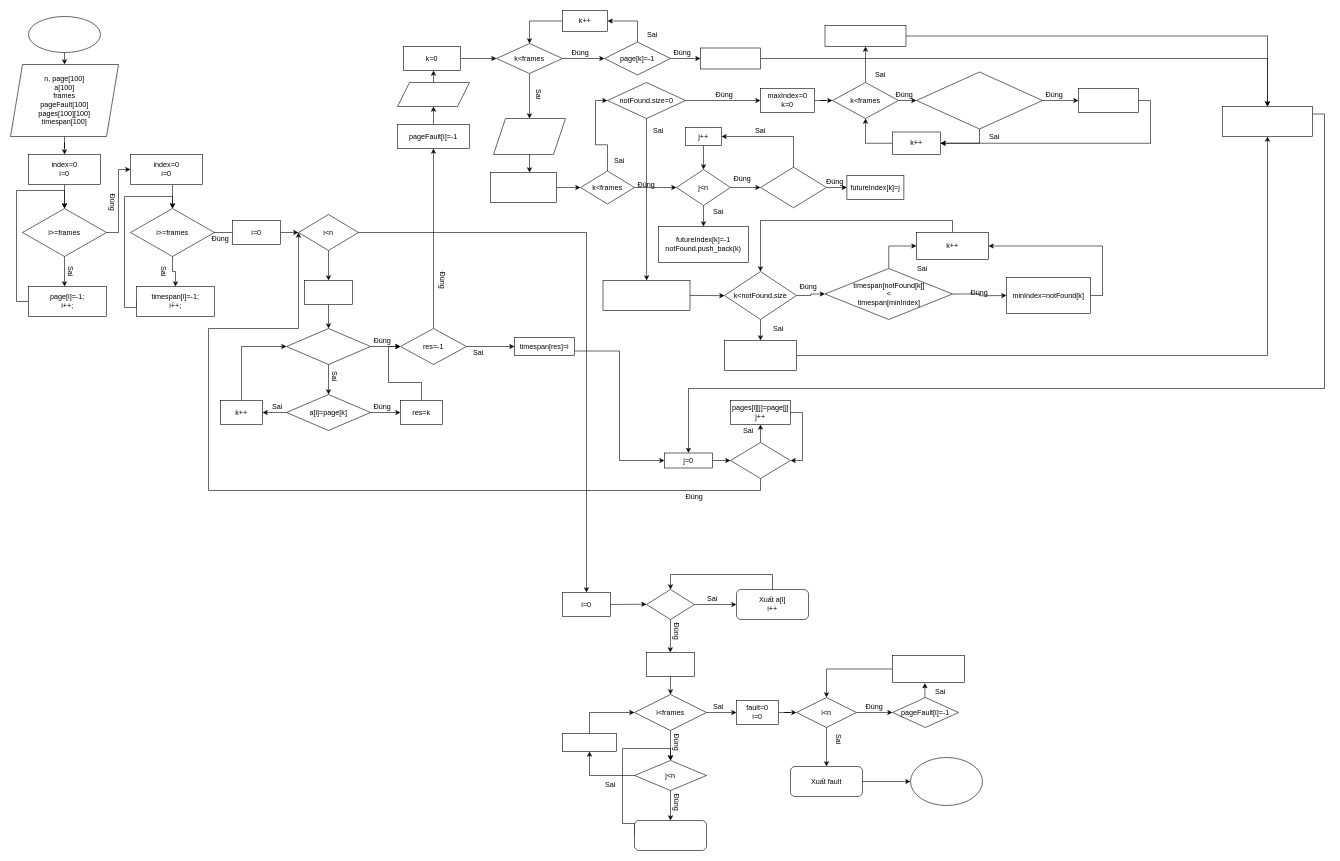
Some shapes in this 1340 by 861 pixel diagram are drawn without their labels. The centre of each missing label's shape, as x and y in pixels:
a[j]=values: pixel 793 187
Bắt đầu: pixel 64 34
fault++: pixel 928 668
futureIndex[maxIndex] < futureIndex[k]: pixel 979 100
i++: pixel 589 742
i=0 j=0: pixel 670 664
i>=n: pixel 670 604
j>=frames: pixel 760 460
k<=frames: pixel 328 346
k=0 j=i values=page[i]: pixel 523 187
k=0 res=-1: pixel 328 292
Kết thúc: pixel 946 781
maxIndex=k: pixel 1108 100
minIndex=notFound[0] k=0: pixel 646 295
notFound vector futureIndex[100]: pixel 529 136
page[swapPage]=a[i] timespan[swapPage]=i: pixel 1267 121
swapPage: pixel 433 94
swapPage=k: pixel 730 58
swapPage=maxIndex: pixel 865 35
swapPage=minIndex: pixel 760 355
Xuất page[i][j] j++: pixel 670 835
